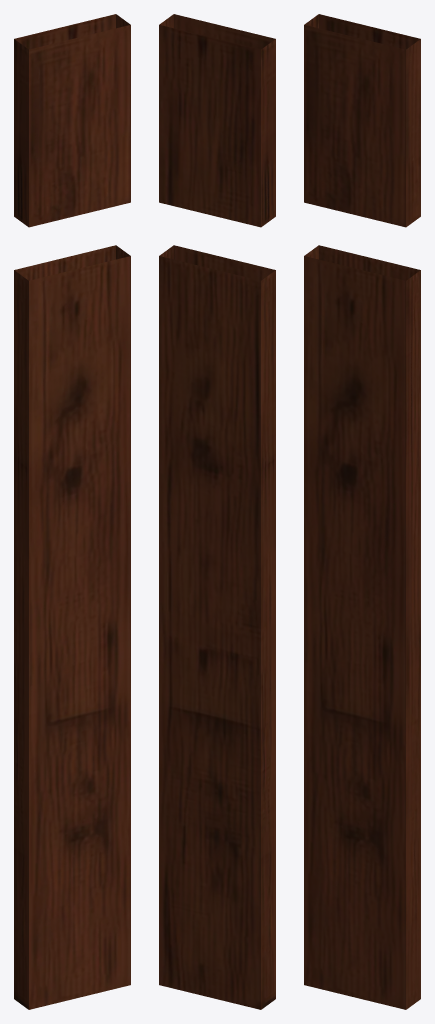
File: link_4__frame_vertical_bar-48.glb
The picture shows the model from 3 angles, left to right: view 1: azimuth 30°, elevation 25°; view 2: azimuth 150°, elevation 25°; view 3: azimuth 330°, elevation 25°; orthographic projection.
Visible parts, largest first — view 1: world; view 2: world; view 3: world.
Boxes of the visible parts, x1,y1,x2,y2 form: world: [14, 14, 130, 1009]; world: [159, 14, 275, 1009]; world: [304, 14, 420, 1009].
Bounding box in the file's own units: 0.1079 × 0.9708 × 0.027.
Materials: 1 (1 with a texture image).
